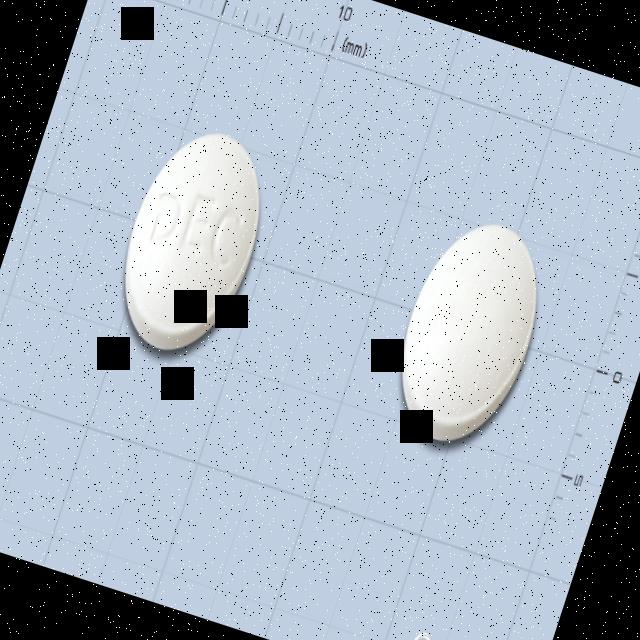Eprosin: (98, 114, 286, 369)
